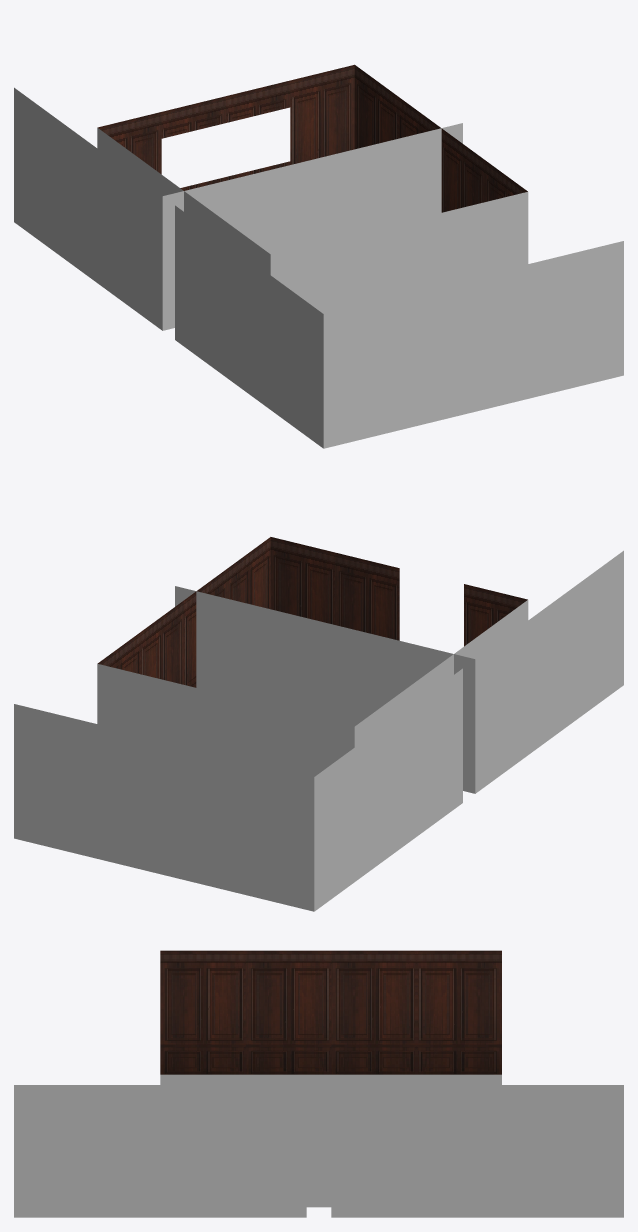
Rendered from office.lvl.glb.
The picture shows the model from 3 angles, top to bottom: view 1: azimuth 30°, elevation 25°; view 2: azimuth 150°, elevation 25°; view 3: azimuth 270°, elevation 25°; orthographic projection.
Parts seen in each view (by area): view 1: Zone_1, Zone_0, Bounds, Office; view 2: Zone_0, Zone_1, Office, Bounds; view 3: Office, Zone_1, Zone_0, Bounds.
Part boxes in pixels (<box>): Zone_1: <box>175,205,623,448</box>; Zone_0: <box>14,87,462,330</box>; Bounds: <box>97,128,528,313</box>; Office: <box>97,64,527,212</box>; Zone_0: <box>14,668,462,911</box>; Zone_1: <box>175,550,623,793</box>; Office: <box>97,537,527,687</box>; Bounds: <box>97,600,528,776</box>; Office: <box>160,950,501,1074</box>; Zone_1: <box>14,1085,306,1217</box>; Zone_0: <box>331,1085,623,1217</box>; Bounds: <box>160,1074,501,1207</box>.
Bounding box in the file's own units: 7 × 3 × 12.5.
Materials: 1 (1 with a texture image).
